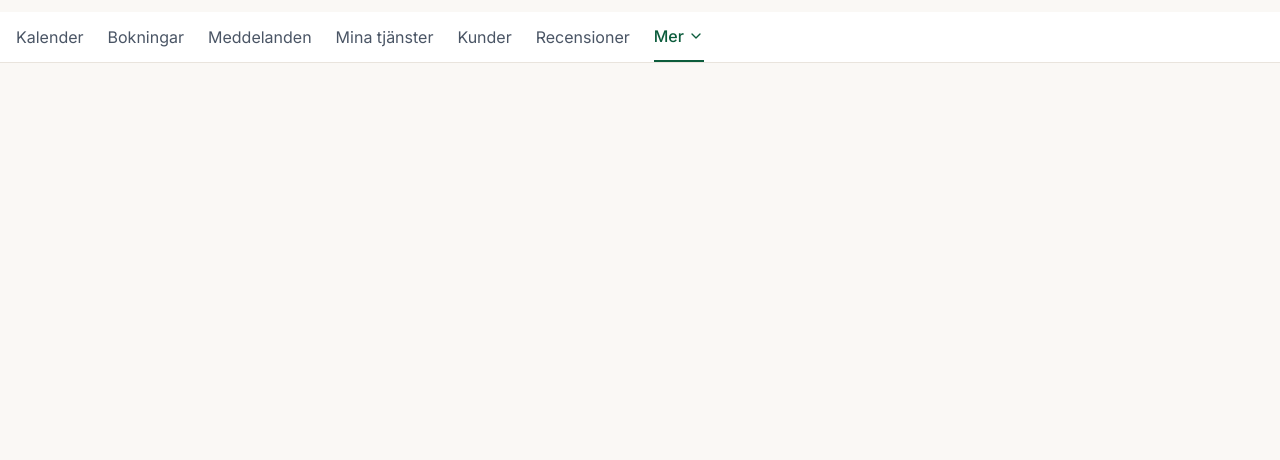
it: ProviderNav › should expose Översikt inside the desktop 'Mer' dropdown
Check: the text "Översikt" is not shown
Click the button "Mer" at (679, 37), box 654,12 -> 704,62
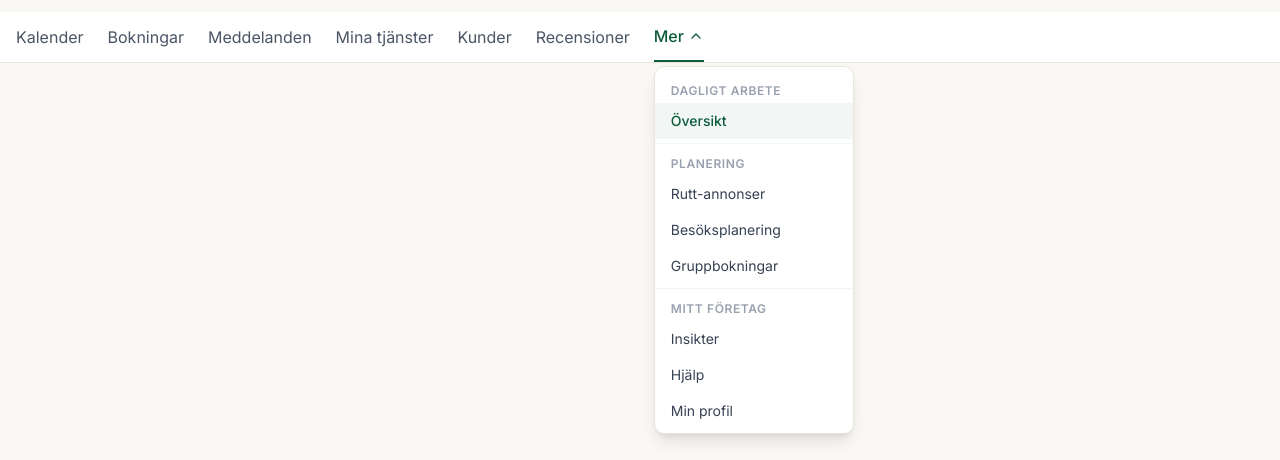
Check: the link "Översikt" is shown, box 655,103 -> 853,139
